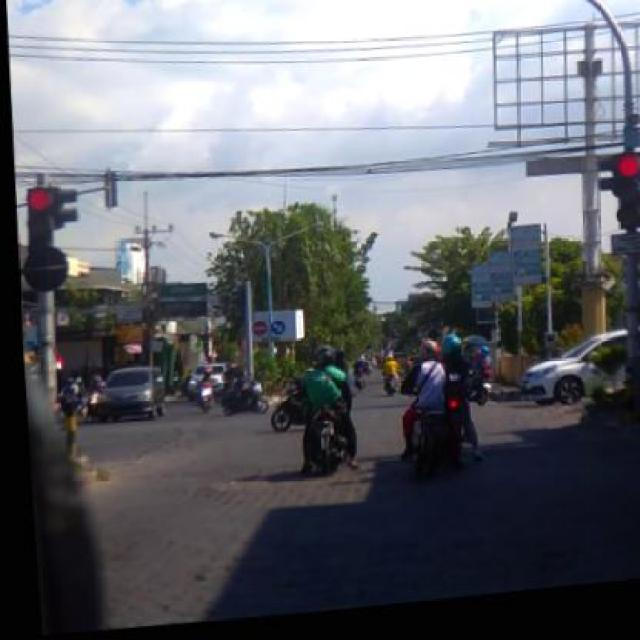red_light: (21, 185, 54, 263), (606, 166, 639, 243)
